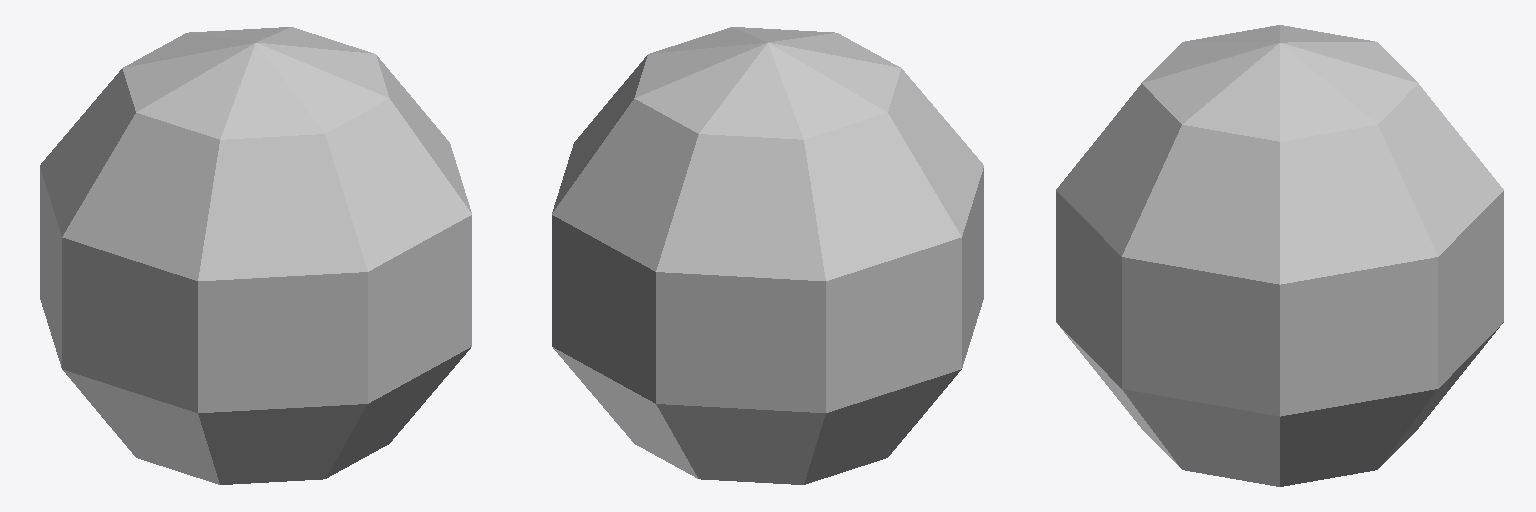
Rendered from fire.obj.
3 renders of one model, left to right at view 1: azimuth 30°, elevation 25°; view 2: azimuth 150°, elevation 25°; view 3: azimuth 270°, elevation 25°, orthographic.
Visible parts, largest first — view 1: Sphere; view 2: Sphere; view 3: Sphere.
Part boxes in pixels (x1,y1,x2,y2): Sphere: (40,27,471,484); Sphere: (552,27,983,484); Sphere: (1056,25,1503,486).
Bounding box in the file's own units: 0.0761 × 0.08 × 0.0761.